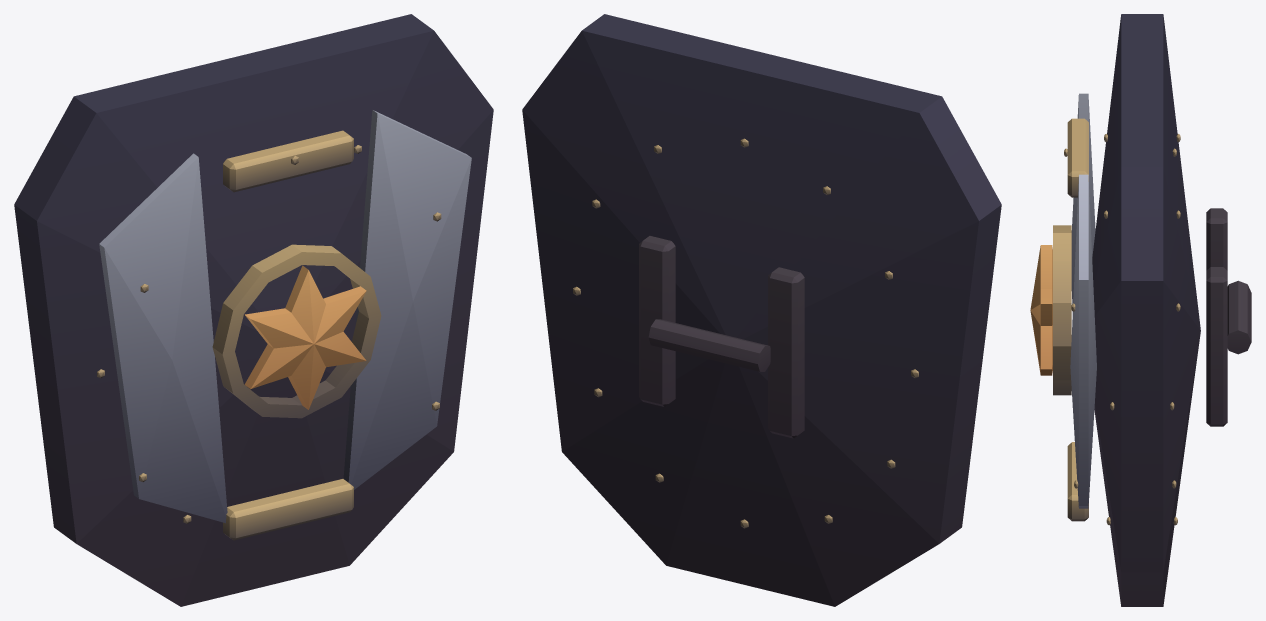
The model's file is escudo_nucleo_forja.glb.
The picture shows the model from 3 angles, left to right: view 1: azimuth 30°, elevation 25°; view 2: azimuth 150°, elevation 25°; view 3: azimuth 270°, elevation 25°; orthographic projection. The views are drawn at different scales.
Visible parts, largest first — view 1: escudo_nucleo_forja_finished; view 2: escudo_nucleo_forja_finished; view 3: escudo_nucleo_forja_finished.
Part boxes in pixels (box(x1,y1,x2,y2)): escudo_nucleo_forja_finished: box(14, 14, 493, 606); escudo_nucleo_forja_finished: box(522, 14, 1001, 606); escudo_nucleo_forja_finished: box(1030, 14, 1251, 606).
Size of the model in its own units: 0.92 by 0.99 by 0.415.
Materials: 2 (2 with a texture image).
